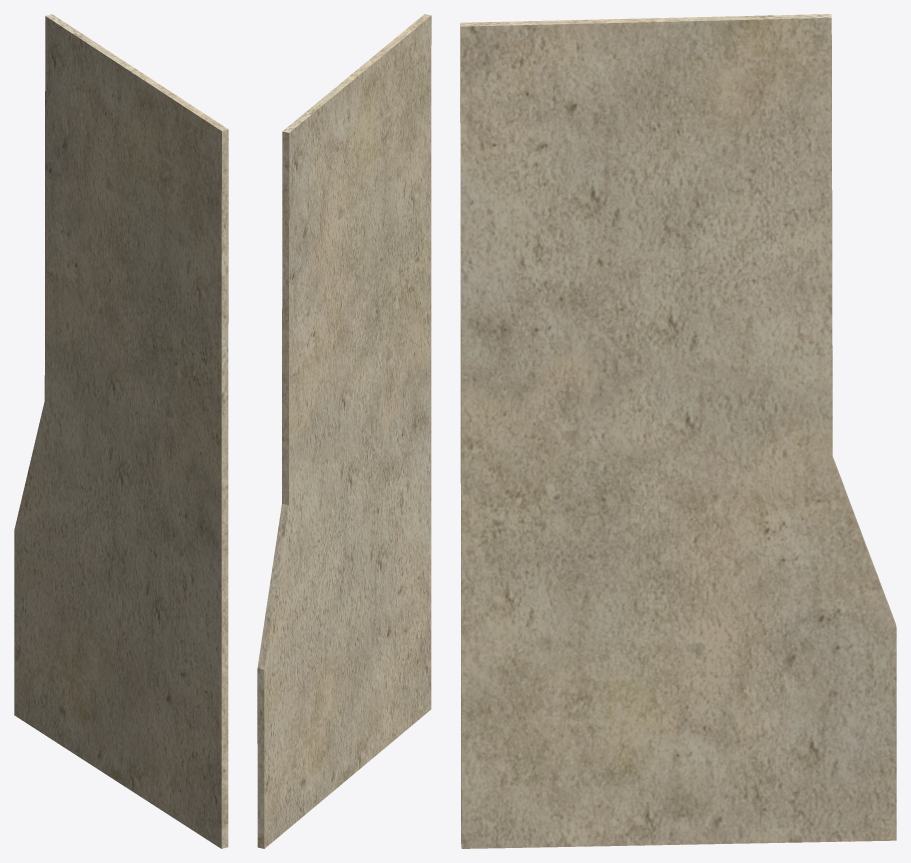
File: concrete_32.fbx
3 views of the same model, side by side, from view 1: azimuth 30°, elevation 25°; view 2: azimuth 150°, elevation 25°; view 3: azimuth 270°, elevation 25° (orthographic). The views are drawn at different scales.
Visible parts, largest first — view 1: concrete_32; view 2: concrete_32; view 3: concrete_32.
Part boxes in pixels (x1,y1,x2,y2): concrete_32: (14, 14, 228, 848); concrete_32: (257, 14, 431, 848); concrete_32: (460, 14, 896, 848).
Bounding box in the file's own units: 34.81 × 989 × 474.
